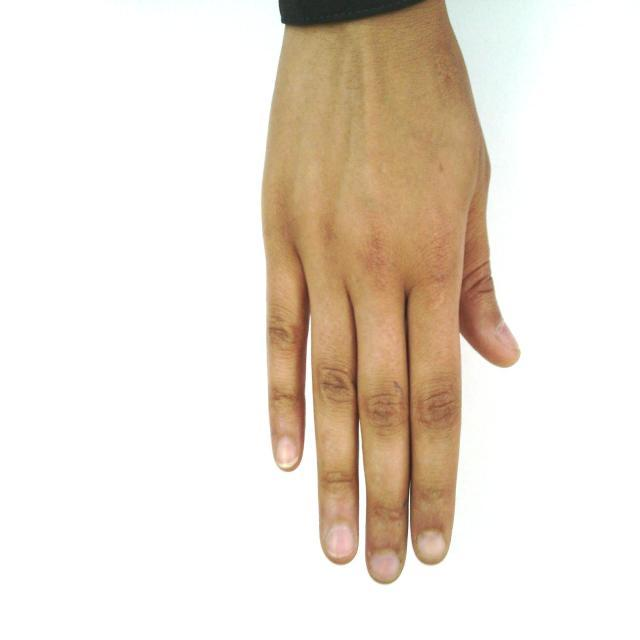Fingernail: (327, 525, 353, 558), (417, 532, 445, 561), (372, 552, 399, 581), (498, 324, 519, 353), (277, 438, 296, 467)
